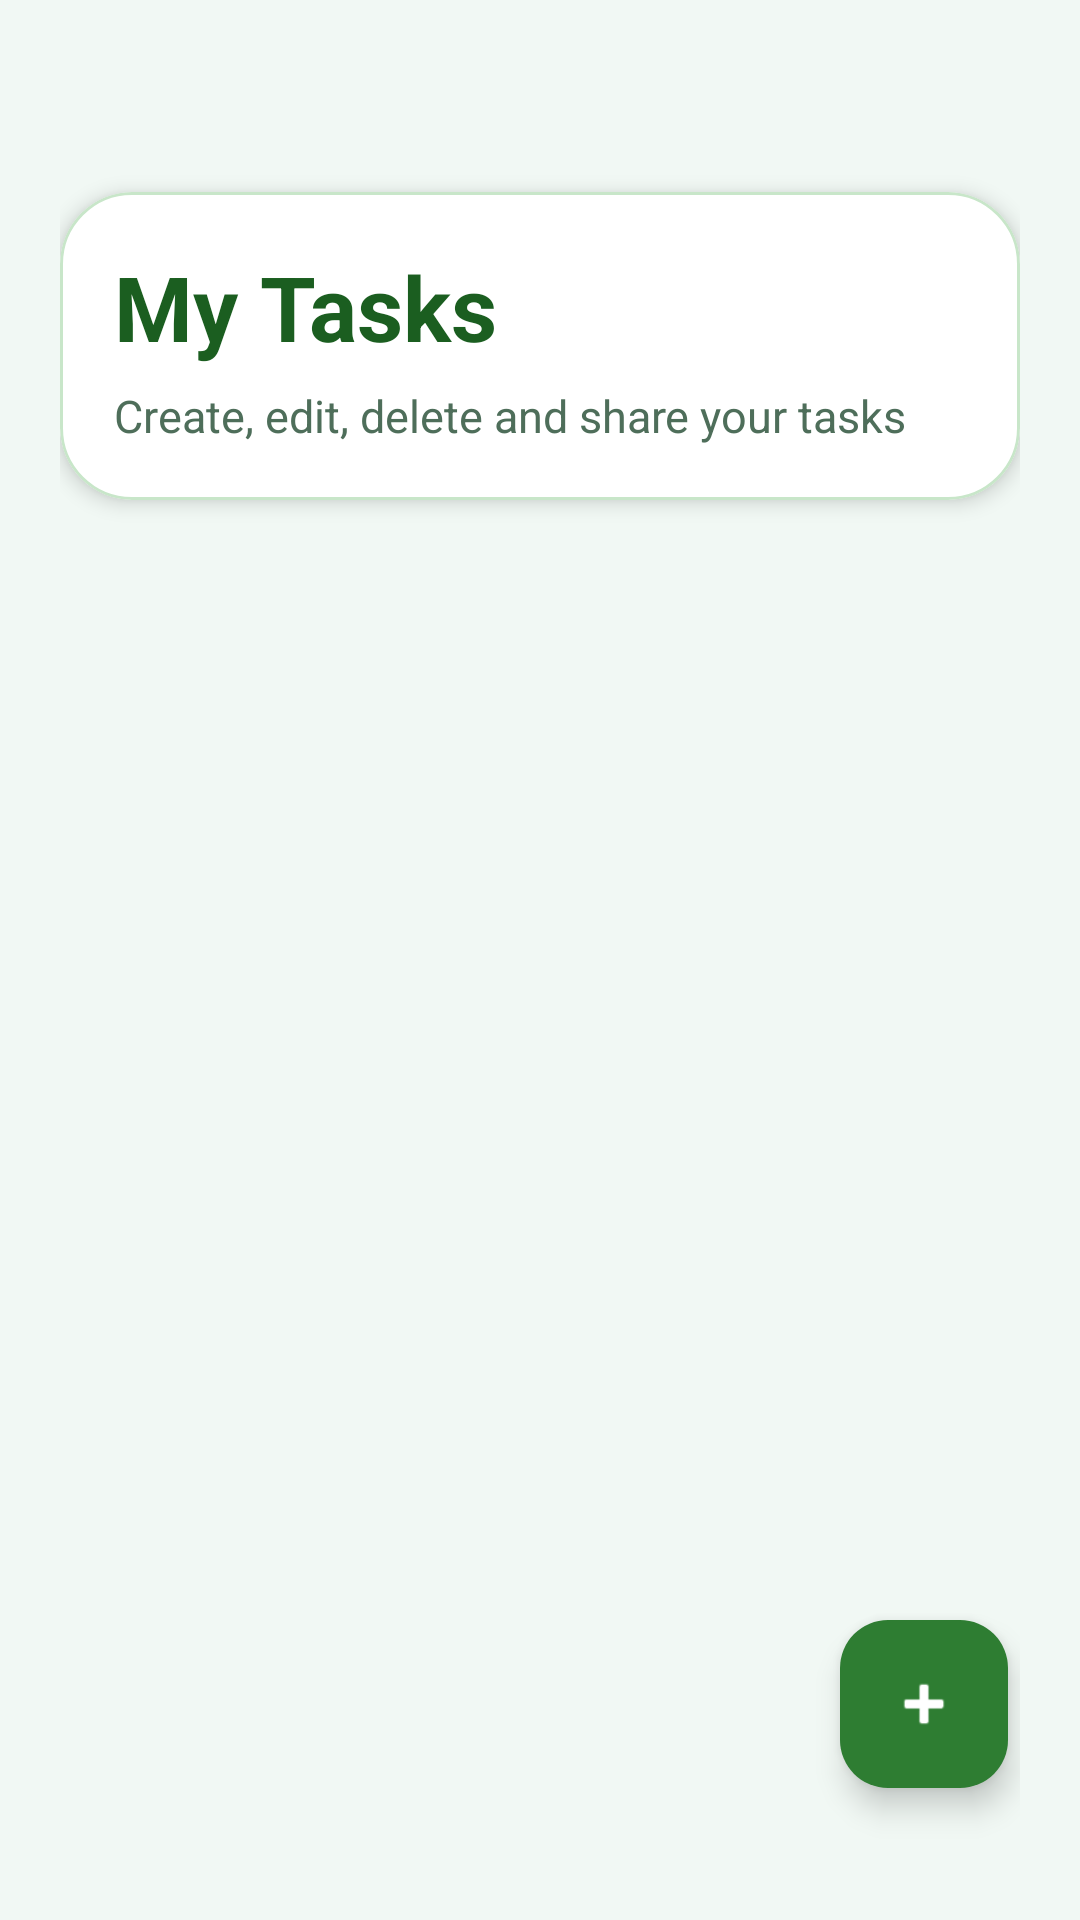

Where to tap for icons on this 1080w x 1920h app screen, as (x=x, y=y):
Add task: (x=924, y=1704)
